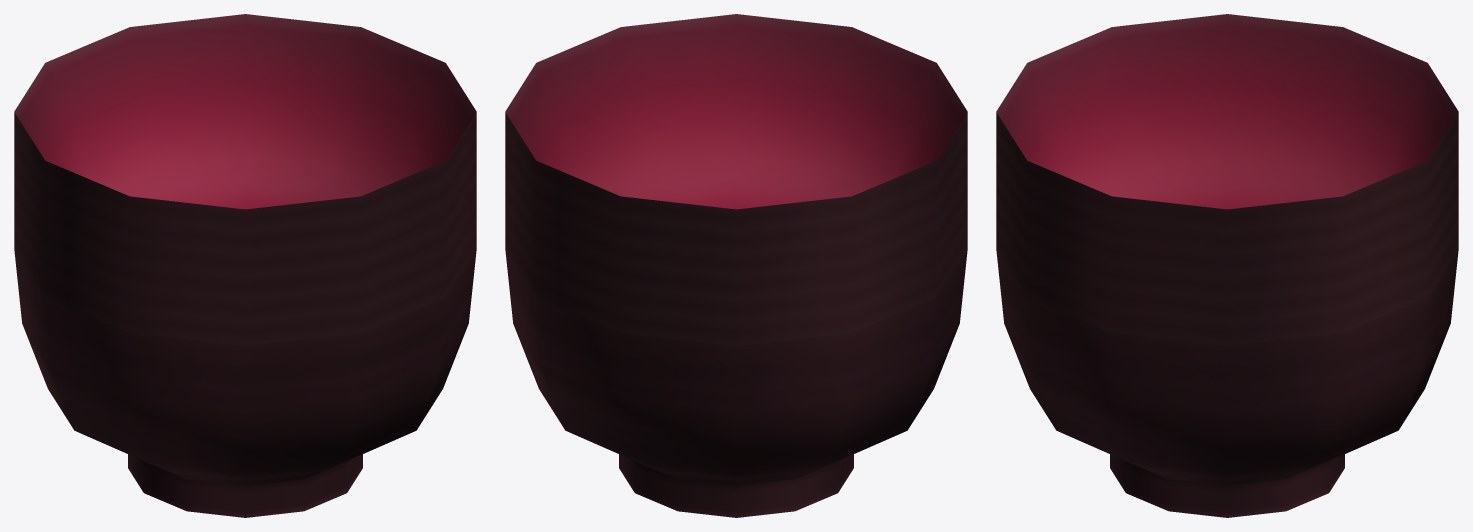
Rendered from jsf_Bowl_02_set.fbx.
The picture shows the model from 3 angles, left to right: view 1: azimuth 30°, elevation 25°; view 2: azimuth 150°, elevation 25°; view 3: azimuth 270°, elevation 25°; orthographic projection.
Visible parts, largest first — view 1: jsf_Bowl_02_set; view 2: jsf_Bowl_02_set; view 3: jsf_Bowl_02_set.
Boxes of the visible parts, x1,y1,x2,y2 form: jsf_Bowl_02_set: (14,14,476,517); jsf_Bowl_02_set: (505,14,967,517); jsf_Bowl_02_set: (996,14,1458,517).
Bounding box in the file's own units: 11.25 × 9.57 × 11.25.
